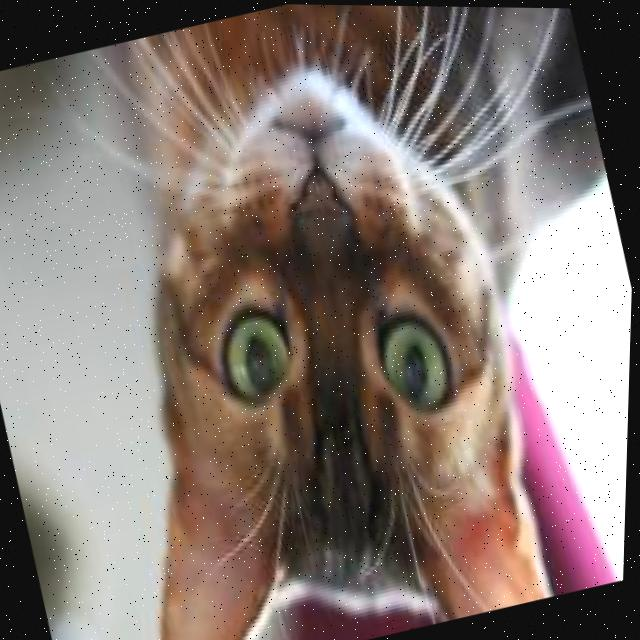Bengal: (6, 0, 640, 640)
